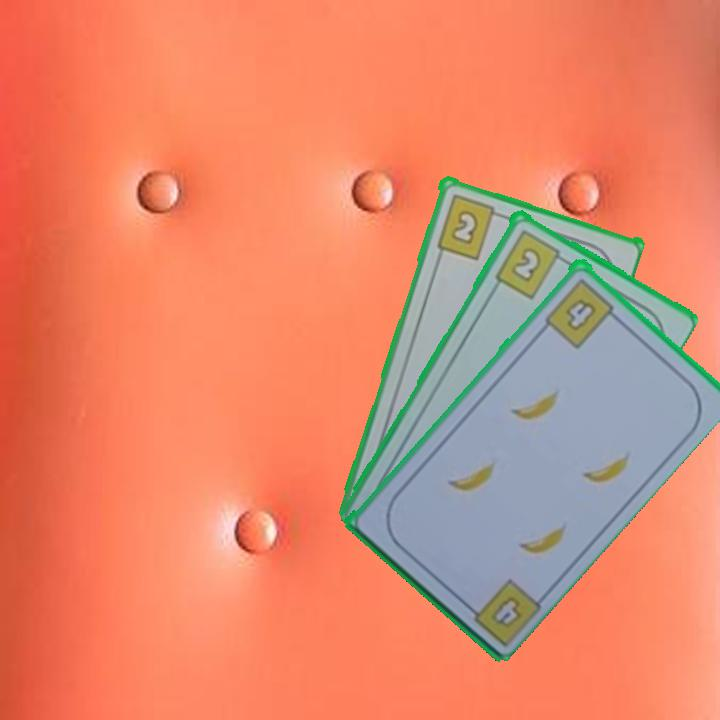2b: (491, 225, 570, 301), (432, 190, 506, 262)
4b: (541, 274, 622, 351), (459, 574, 543, 648)
